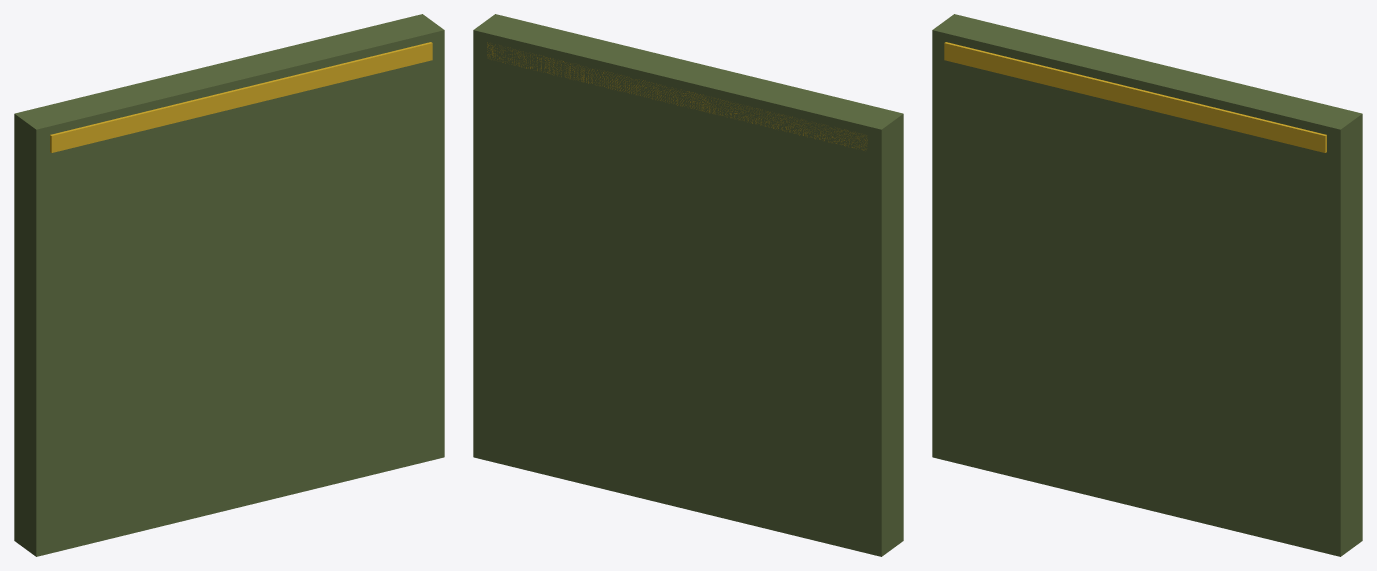
The model's file is vehicle_door.obj.
3 views of the same model, side by side, from view 1: azimuth 30°, elevation 25°; view 2: azimuth 150°, elevation 25°; view 3: azimuth 330°, elevation 25° (orthographic).
Visible parts, largest first — view 1: vehicle_door; view 2: vehicle_door; view 3: vehicle_door.
Part boxes in pixels (x1,y1,x2,y2): vehicle_door: (14, 14, 444, 556); vehicle_door: (473, 14, 903, 556); vehicle_door: (932, 14, 1362, 556).
Bounding box in the file's own units: 3 × 3 × 0.3.
